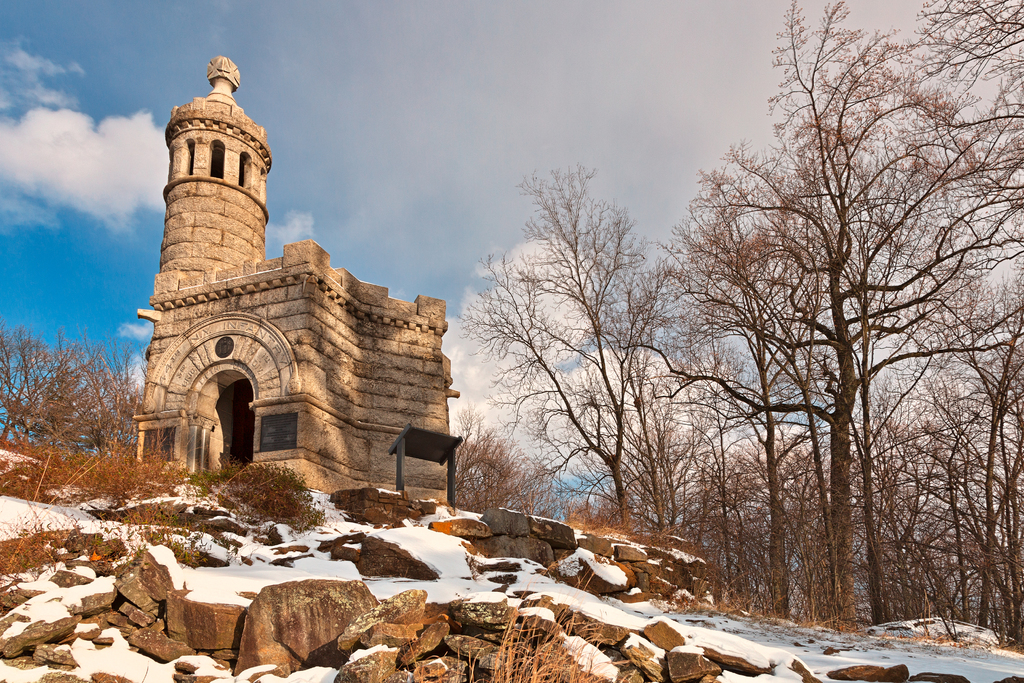Tree: (675, 27, 981, 656), (0, 324, 137, 469), (456, 404, 617, 518)
